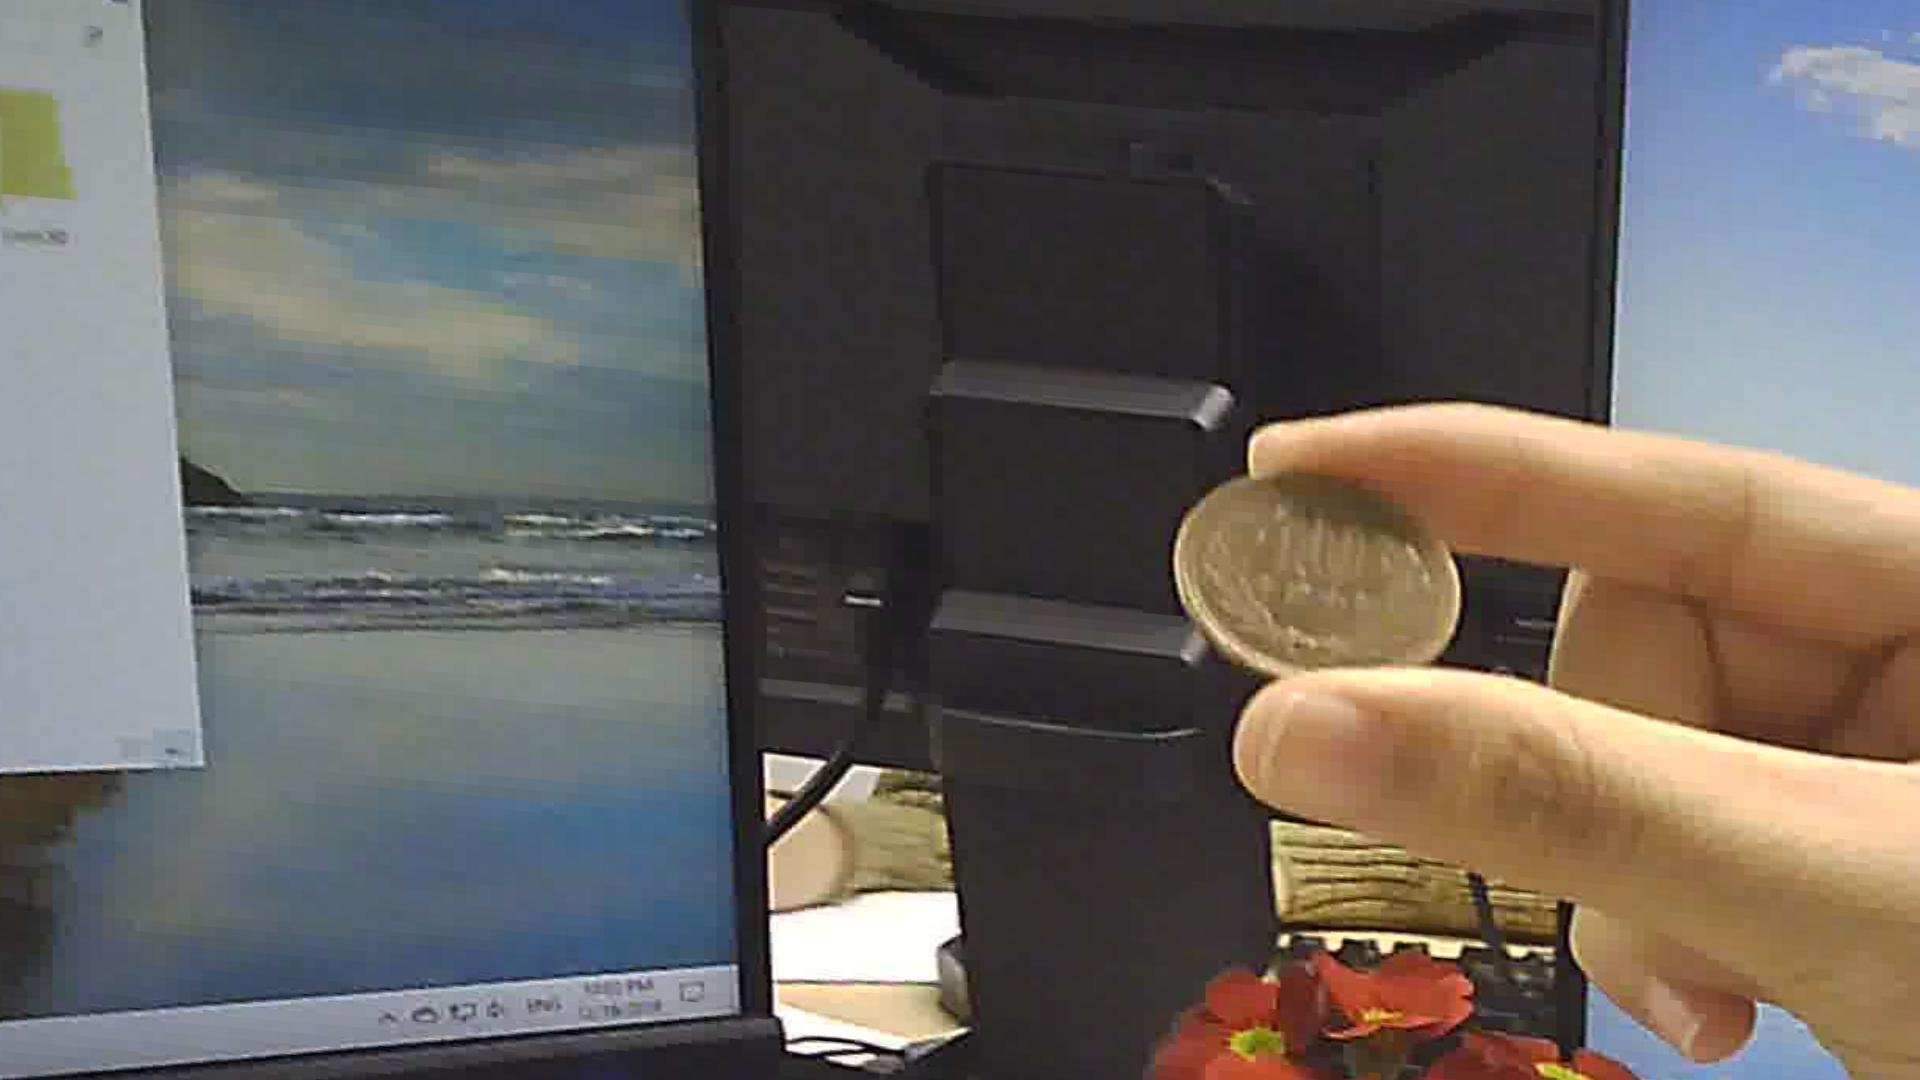10 Yen: (1160, 465, 1455, 676)
